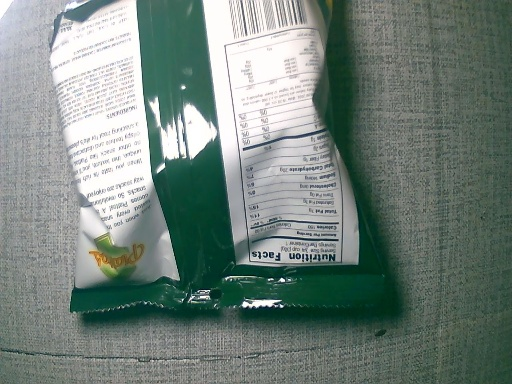plastic: (46, 1, 409, 326)
